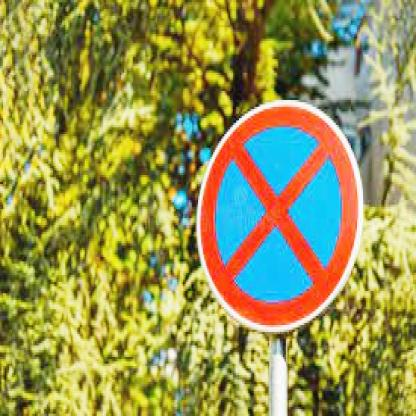No stopping: (190, 96, 366, 336)
